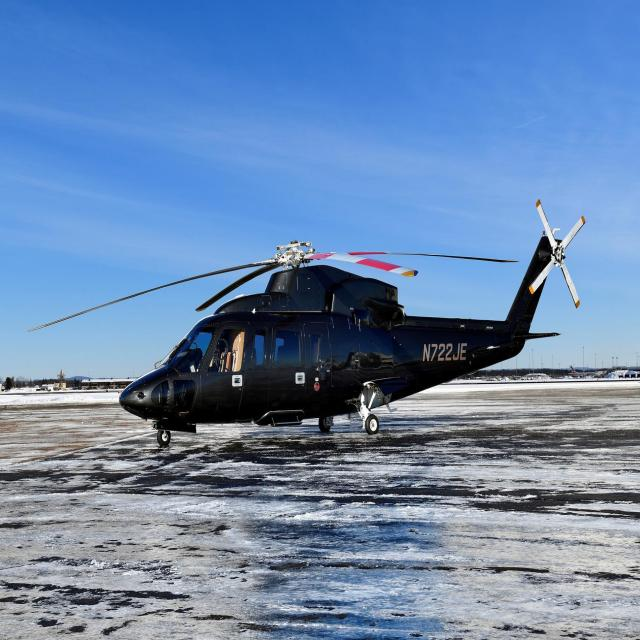helicopter: (28, 202, 587, 449)
